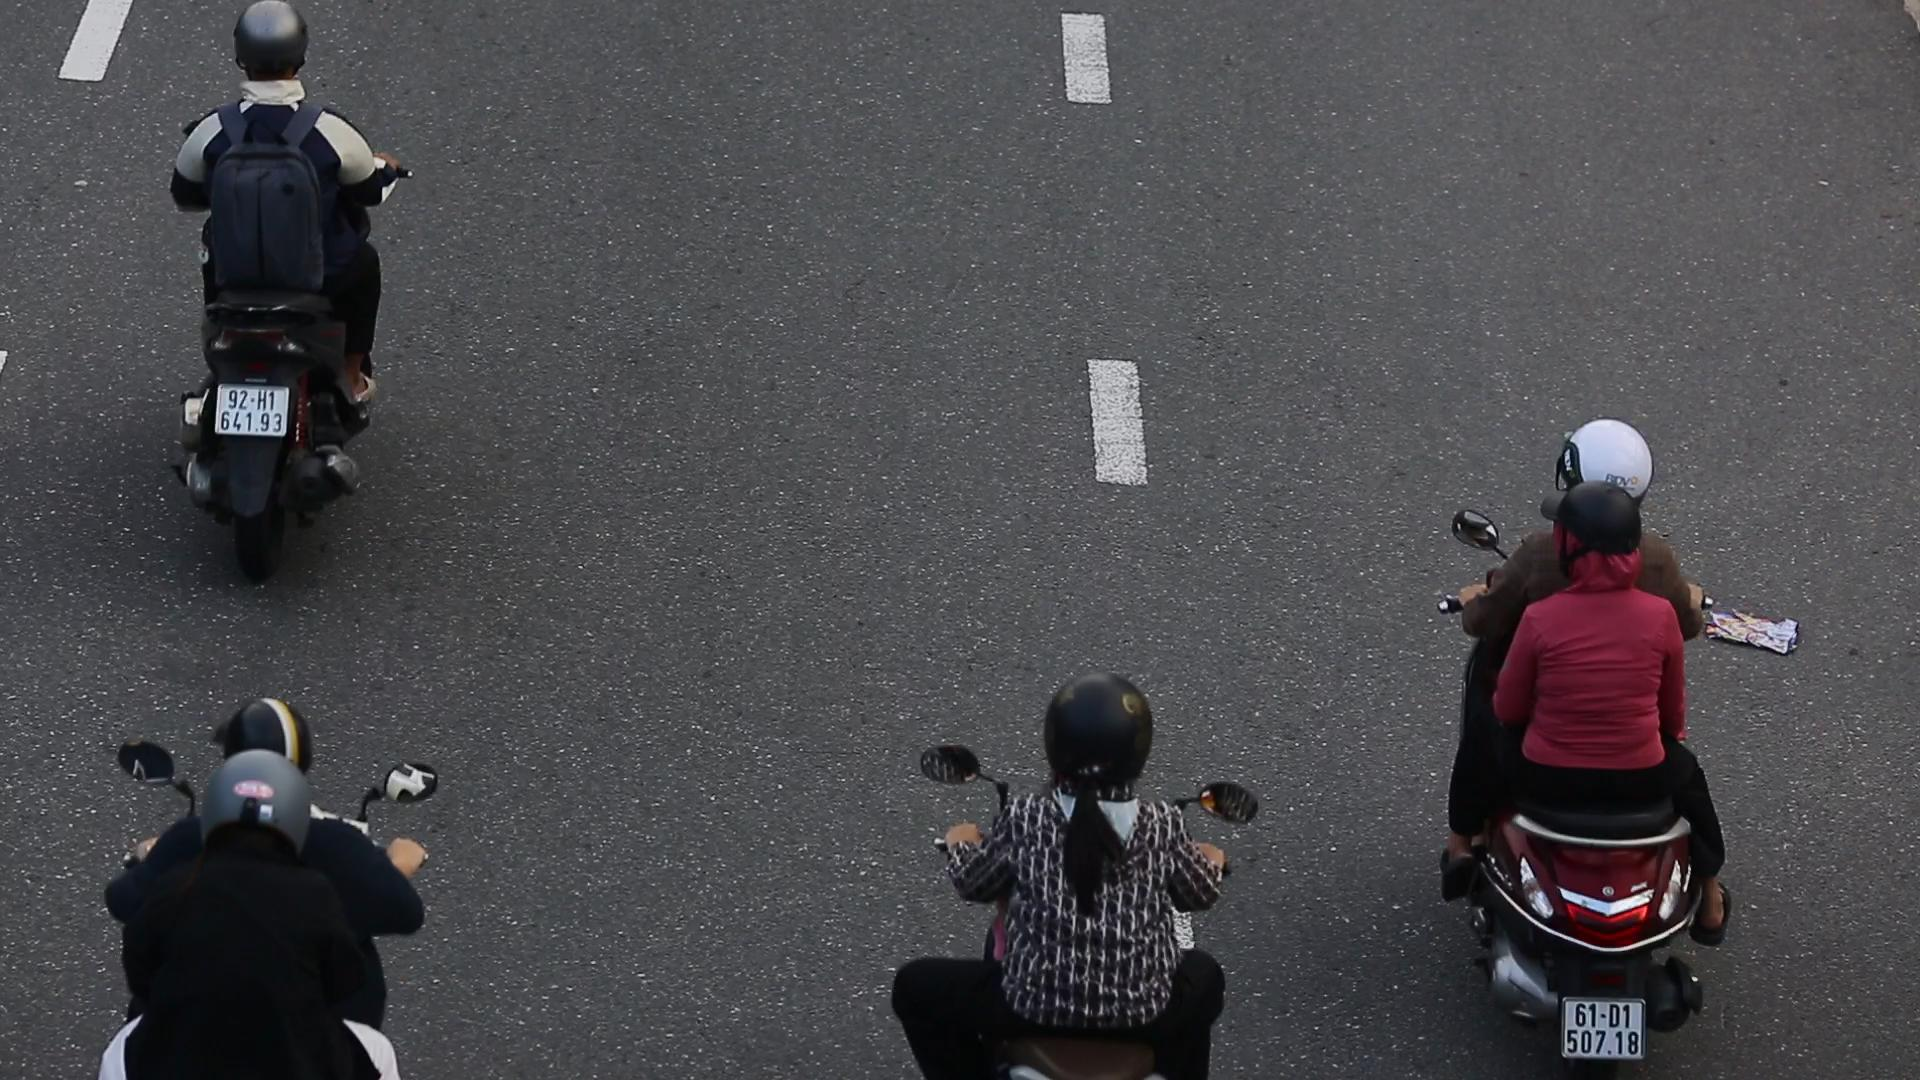motobike: (1420, 411, 1764, 1080), (152, 9, 417, 595)
